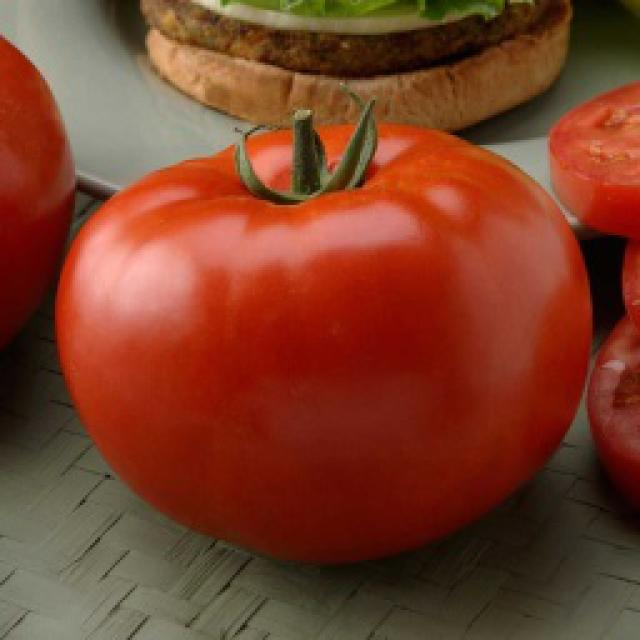tomato: (55, 124, 593, 565), (0, 35, 78, 363)
